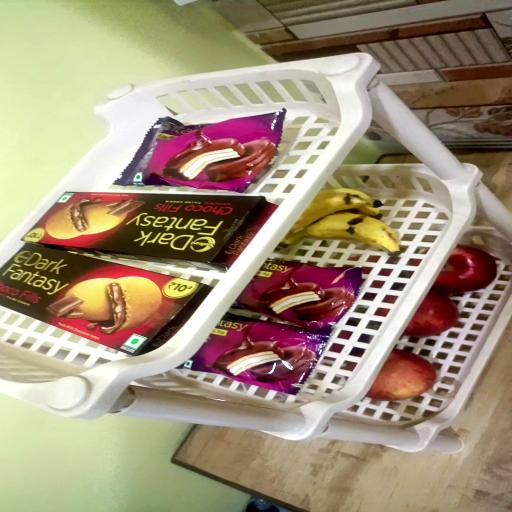Apple: (368, 350, 436, 400), (434, 247, 498, 294), (402, 290, 458, 338)
Choco Fills: (0, 240, 211, 354), (22, 192, 277, 269)
Choco Pie: (119, 110, 287, 192), (180, 314, 328, 394), (234, 260, 366, 333)
